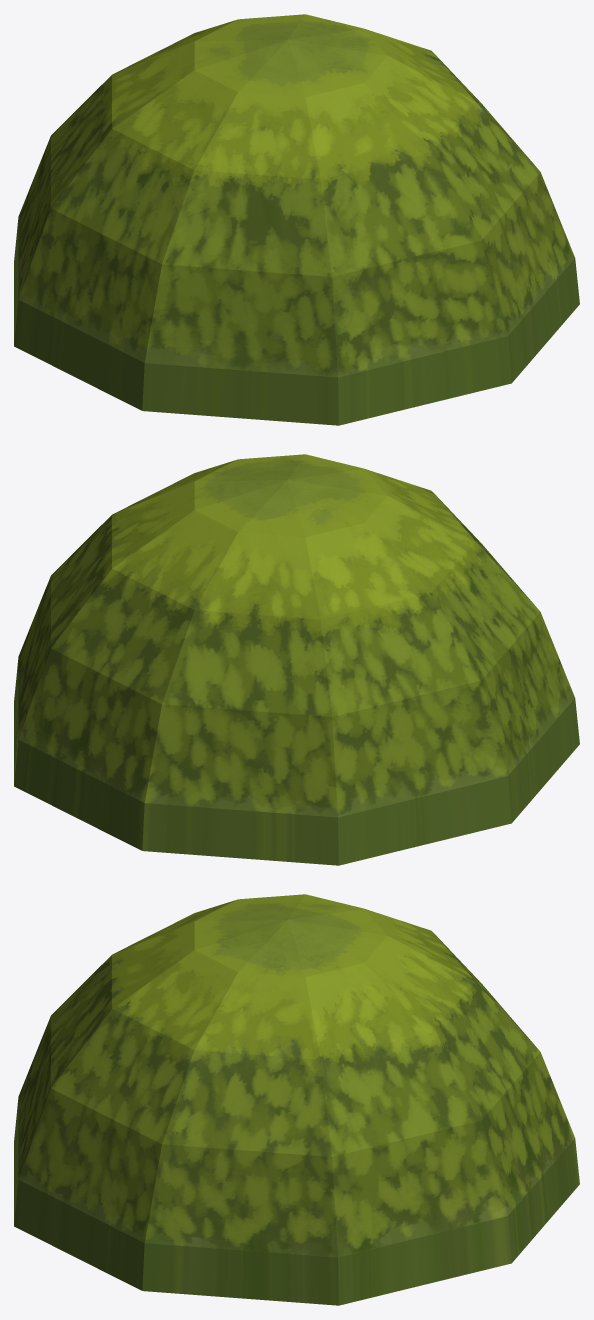
File: Leaf_1.obj
3 renders of one model, top to bottom at view 1: azimuth 30°, elevation 25°; view 2: azimuth 150°, elevation 25°; view 3: azimuth 270°, elevation 25°, orthographic.
Visible parts, largest first — view 1: Leaf_1; view 2: Leaf_1; view 3: Leaf_1.
Boxes of the visible parts, x1,y1,x2,y2 form: Leaf_1: [14, 14, 579, 425]; Leaf_1: [14, 454, 579, 865]; Leaf_1: [14, 894, 579, 1305].
Size of the model in its own units: 27.4 by 13.91 by 26.98.
Materials: 1 (1 with a texture image).
